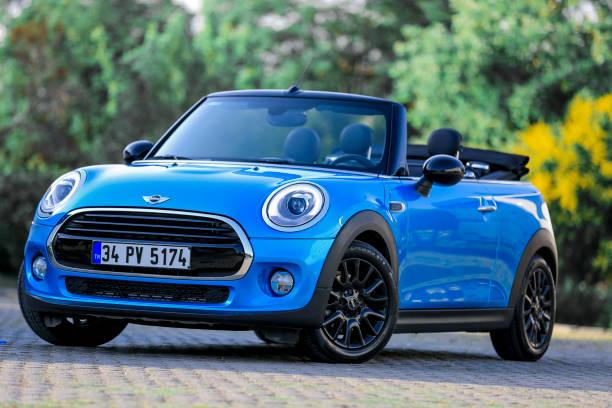mini: (134, 187, 179, 211)
